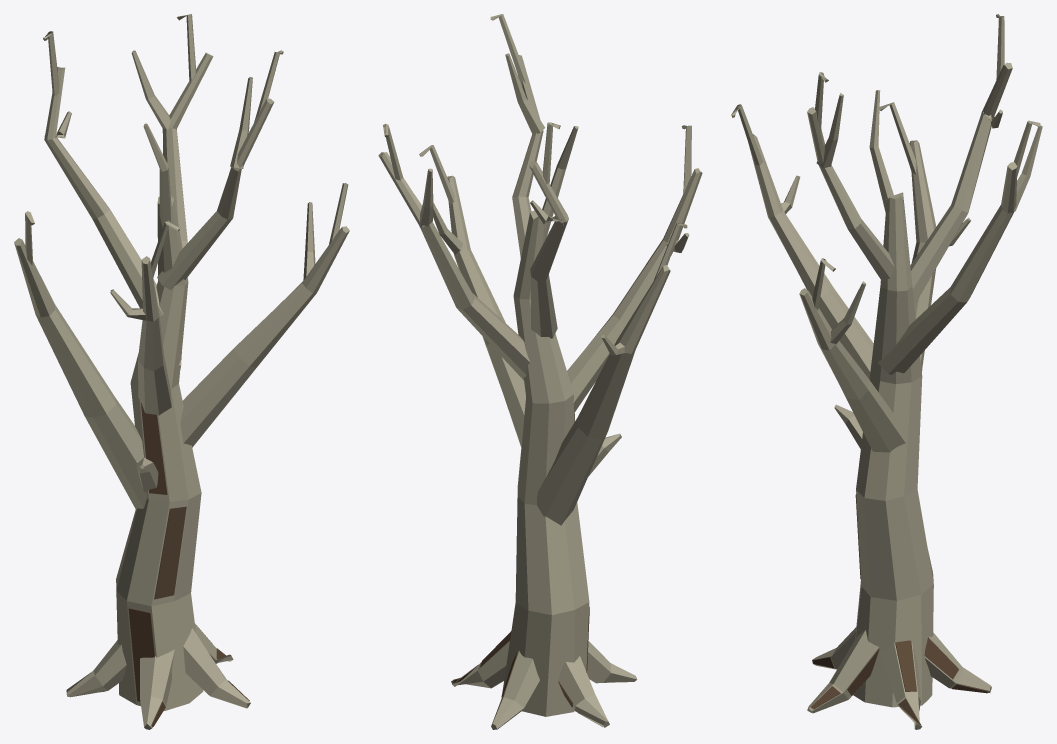
Rendered from prop-tree-oak-dead.glb.
3 renders of one model, left to right at view 1: azimuth 30°, elevation 25°; view 2: azimuth 150°, elevation 25°; view 3: azimuth 270°, elevation 25°, orthographic. The views are drawn at different scales.
Visible parts, largest first — view 1: leafless_tree; view 2: leafless_tree; view 3: leafless_tree.
Boxes of the visible parts, x1,y1,x2,y2 form: leafless_tree: (14, 14, 349, 729); leafless_tree: (378, 14, 702, 729); leafless_tree: (731, 14, 1042, 729).
Bounding box in the file's own units: 0.8627 × 1.81 × 0.776.
